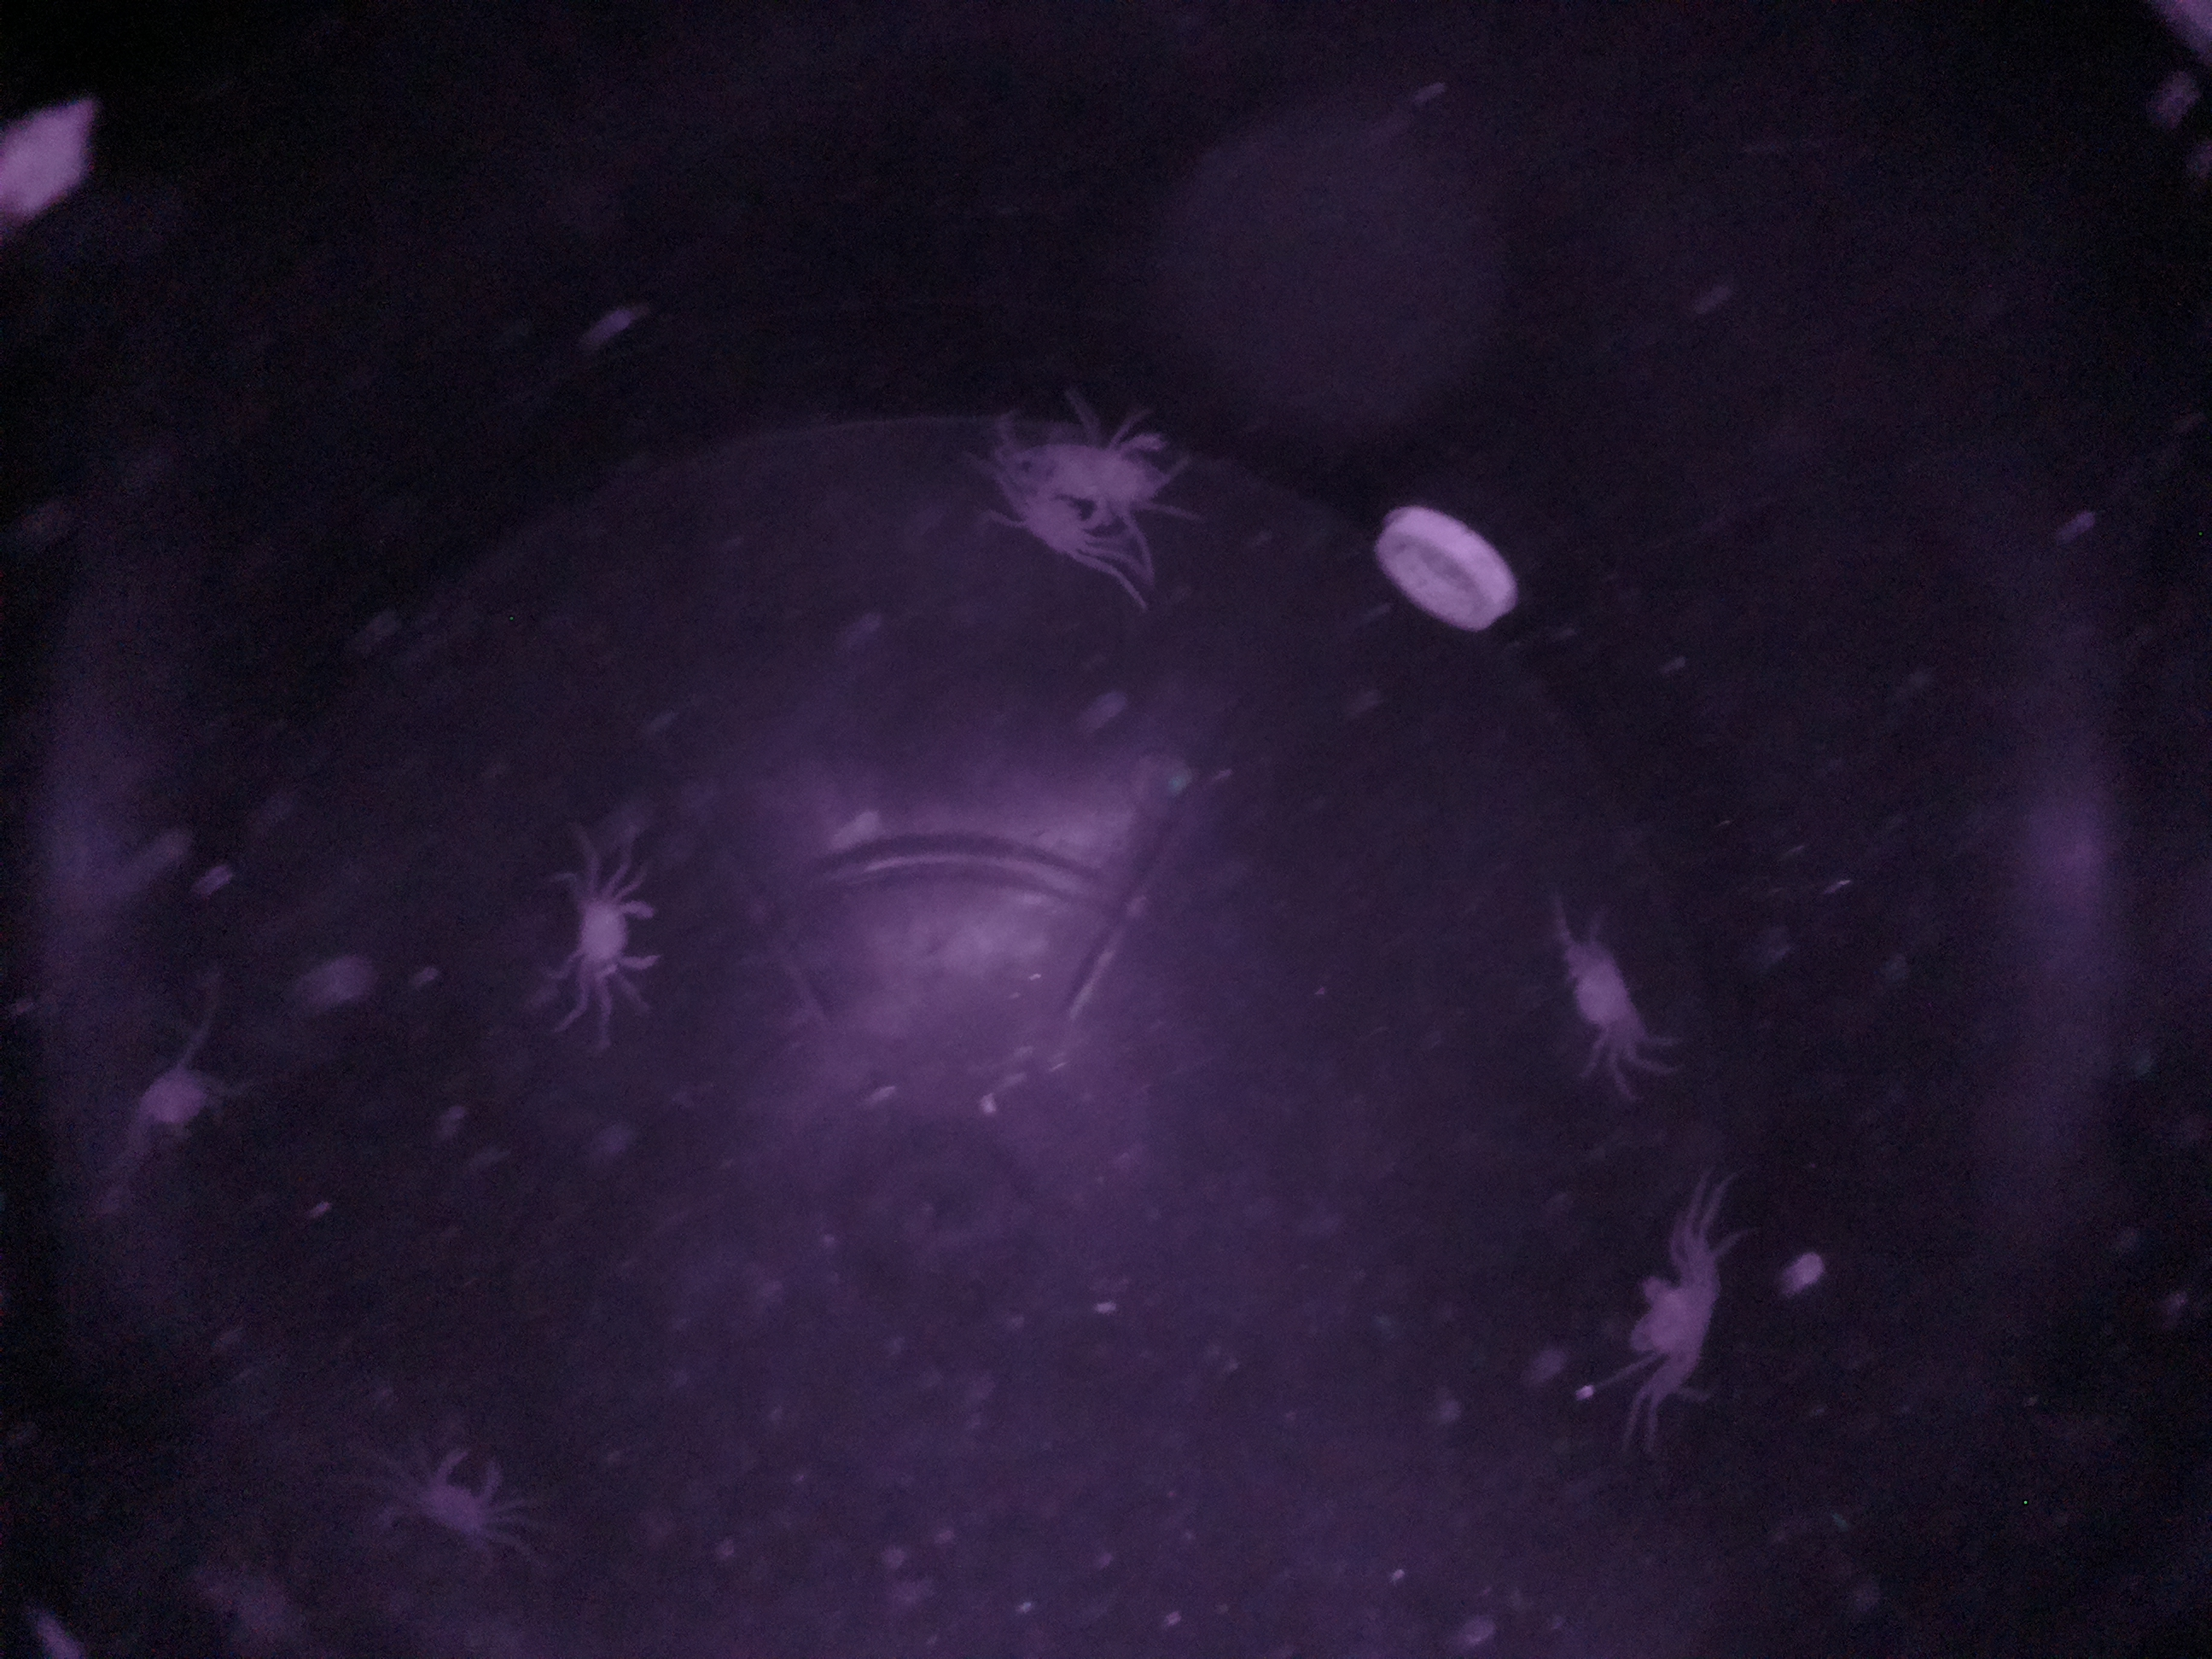Crab: (1609, 1241, 1738, 1405), (549, 873, 685, 995)
